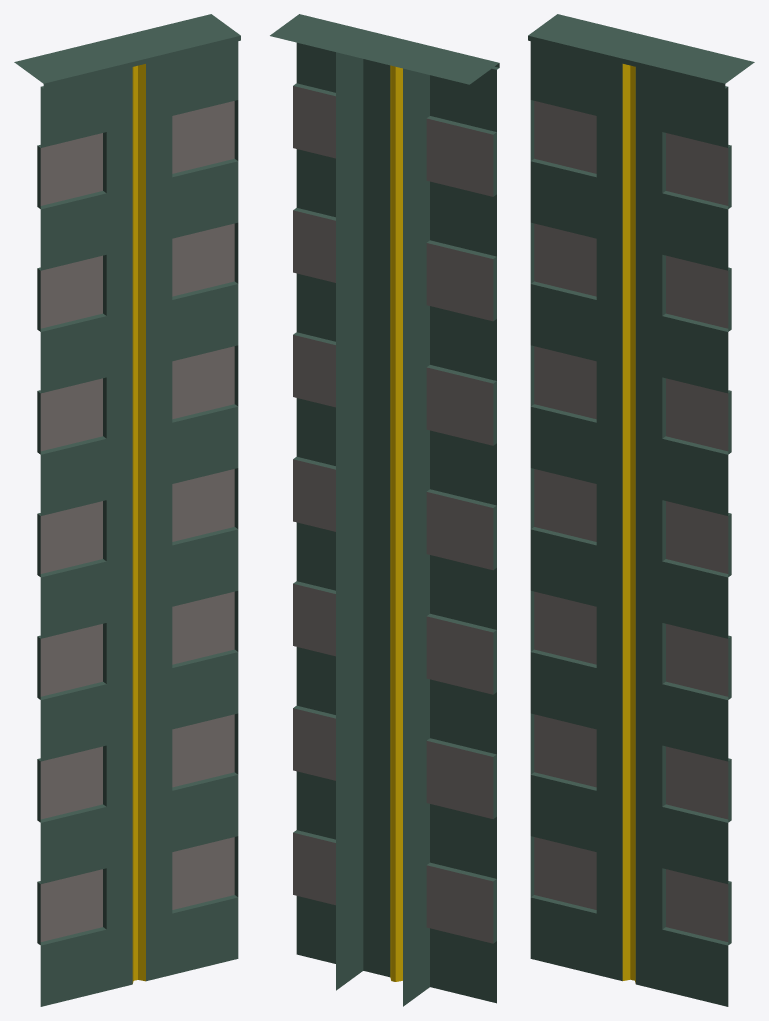
The picture shows the model from 3 angles, left to right: view 1: azimuth 30°, elevation 25°; view 2: azimuth 150°, elevation 25°; view 3: azimuth 330°, elevation 25°; orthographic projection.
Visible parts, largest first — view 1: Column.053; view 2: Column.053; view 3: Column.053.
Part boxes in pixels (left/top/right/bottom): Column.053: left=14, top=14, right=240, bottom=1006; Column.053: left=270, top=14, right=499, bottom=1006; Column.053: left=528, top=14, right=754, bottom=1006.
Bounding box in the file's own units: 835 × 3742 × 217.
